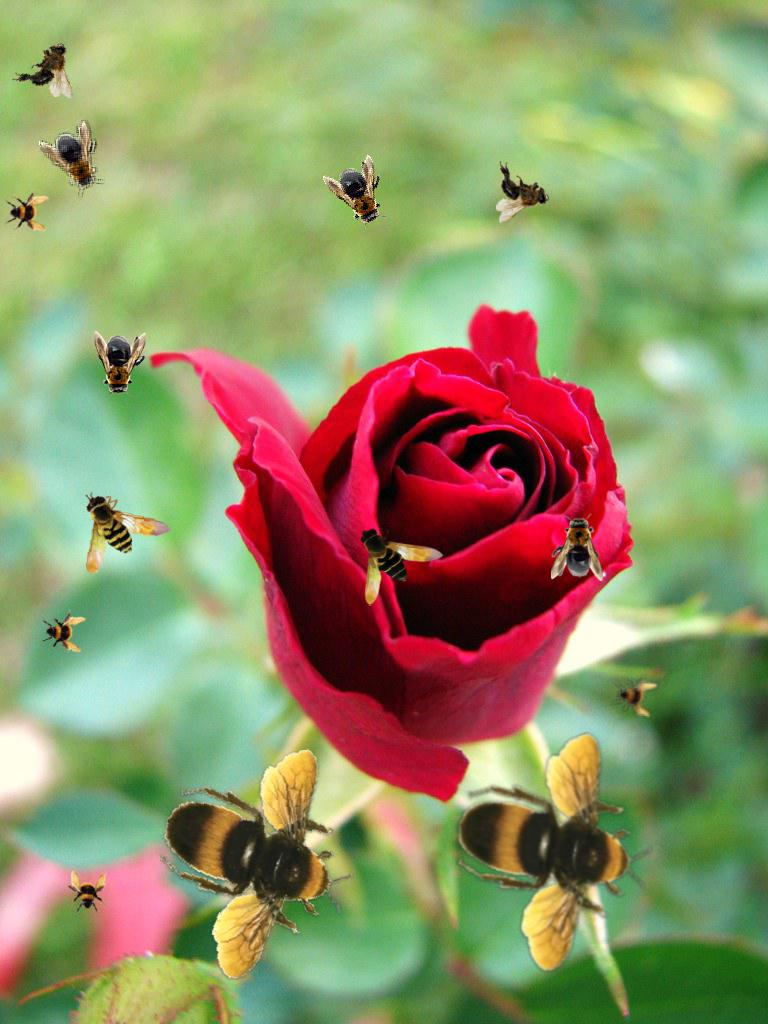Bee: (432, 724, 678, 989), (148, 745, 366, 988), (78, 491, 174, 581), (357, 524, 445, 606), (322, 152, 400, 238), (38, 117, 116, 203), (11, 32, 86, 102), (94, 331, 146, 399), (551, 513, 603, 581), (496, 161, 549, 223), (609, 669, 661, 721), (39, 607, 87, 655), (5, 189, 49, 233), (64, 870, 108, 914)
